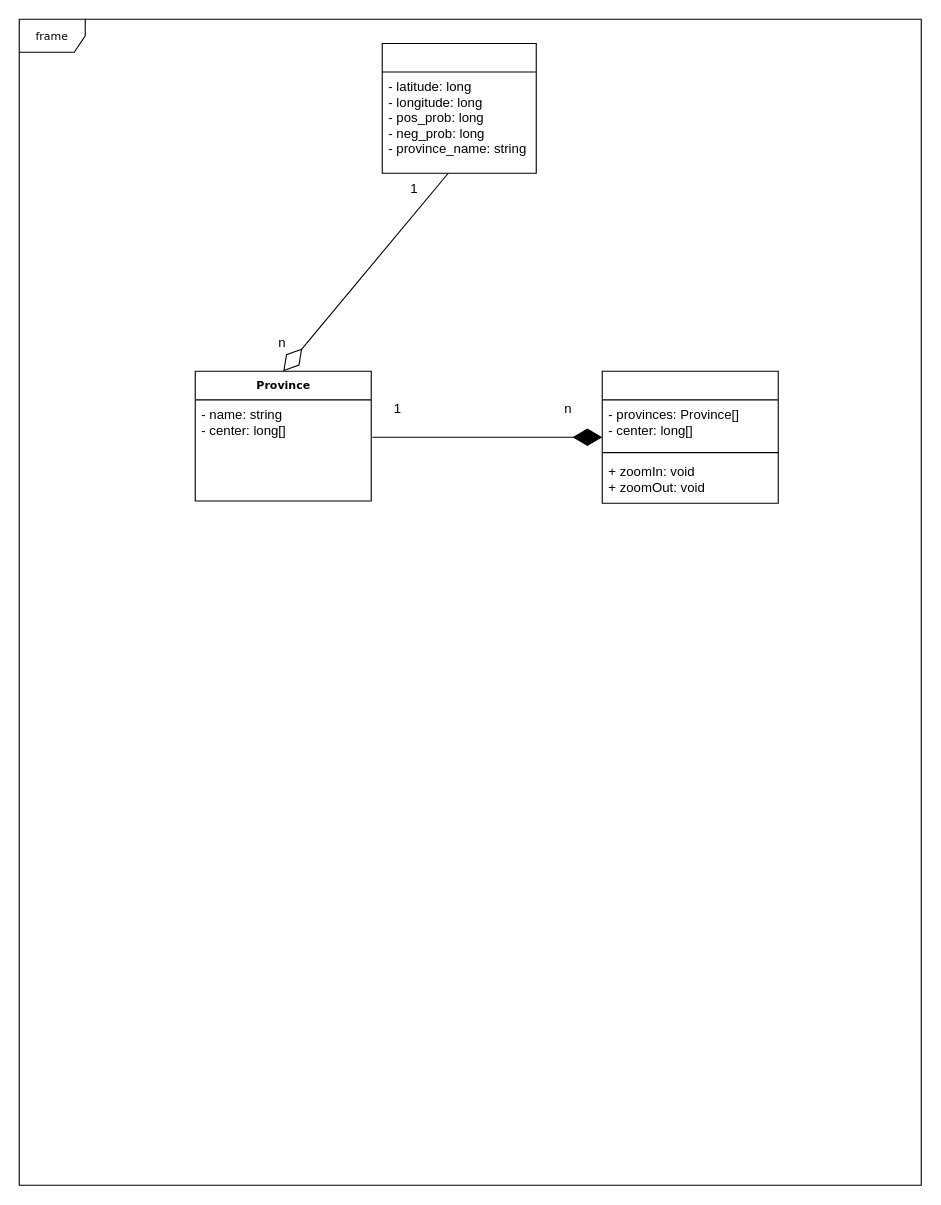
This 941x1205 diagram has some shape labels left out. The box of each missing label's shape, as (x1, y1, x2, y2) in pixels:
Map: (601, 370, 778, 503)
Tweet: (381, 42, 536, 173)
